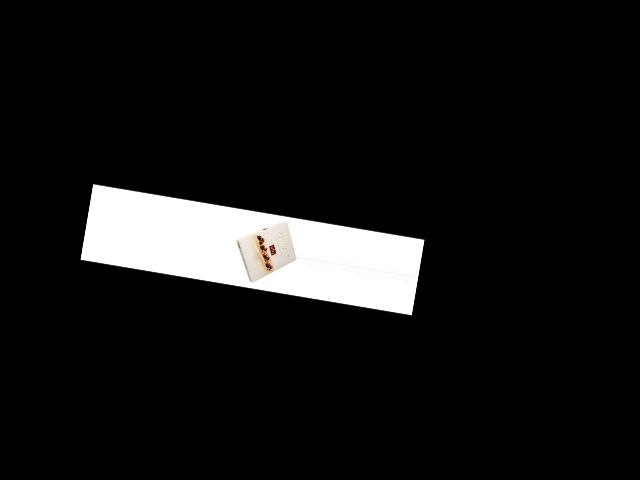chocolate: (228, 213, 301, 293)
